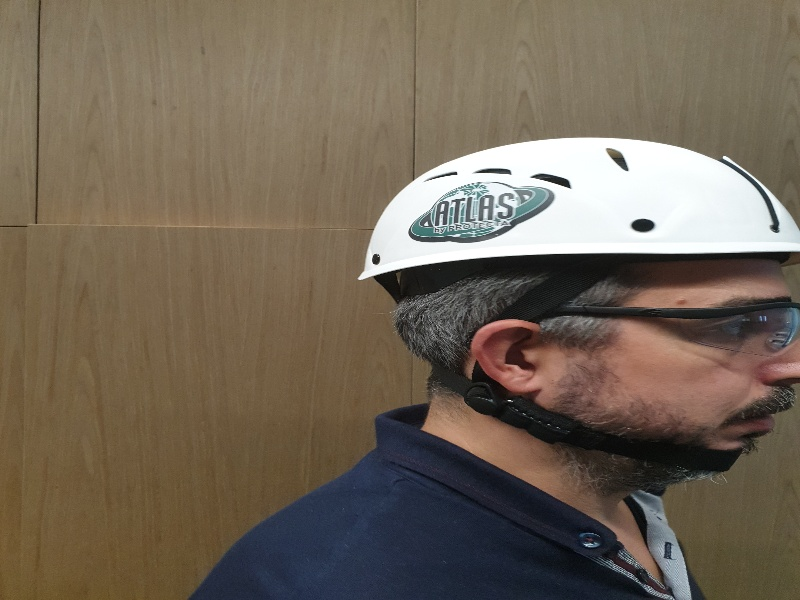Baret: (364, 146, 800, 267)
Gozluk: (553, 289, 800, 353)
